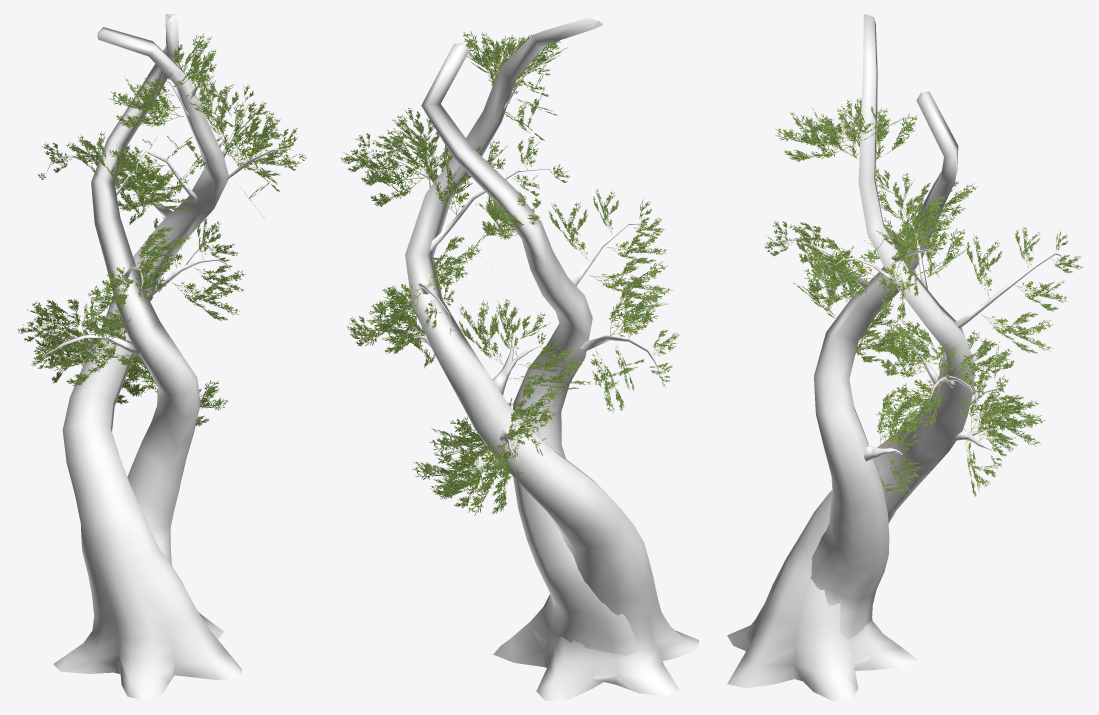
Rendered from StylizedTree_correct.fbx.
3 views of the same model, side by side, from view 1: azimuth 30°, elevation 25°; view 2: azimuth 150°, elevation 25°; view 3: azimuth 270°, elevation 25° (orthographic). The views are drawn at different scales.
Parts seen in each view (by area): view 1: Twisted; view 2: Twisted; view 3: Twisted.
Boxes of the visible parts, x1=… form: Twisted: x1=17, y1=14, x2=306, y2=700; Twisted: x1=340, y1=14, x2=698, y2=700; Twisted: x1=727, y1=14, x2=1083, y2=700.
Size of the model in its own units: 1.77 by 1.67 by 3.46.
